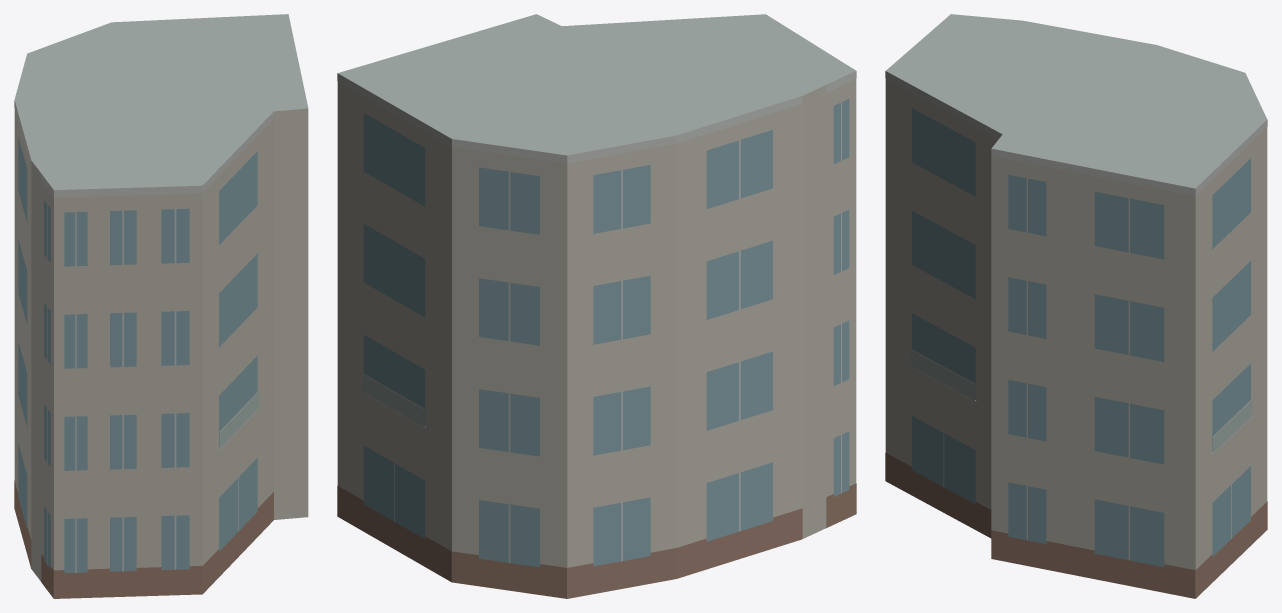
Rendered from survey-upis-32624784.glb.
3 renders of one model, left to right at view 1: azimuth 30°, elevation 25°; view 2: azimuth 150°, elevation 25°; view 3: azimuth 270°, elevation 25°, orthographic. The views are drawn at different scales.
Parts seen in each view (by area): view 1: survey-upis-32624784.tmp; view 2: survey-upis-32624784.tmp; view 3: survey-upis-32624784.tmp.
Part boxes in pixels (x1,y1,x2,y2): survey-upis-32624784.tmp: (14,14,308,598); survey-upis-32624784.tmp: (337,14,856,598); survey-upis-32624784.tmp: (885,14,1267,598).
Size of the model in its own units: 12.18 by 13.34 by 11.26.
